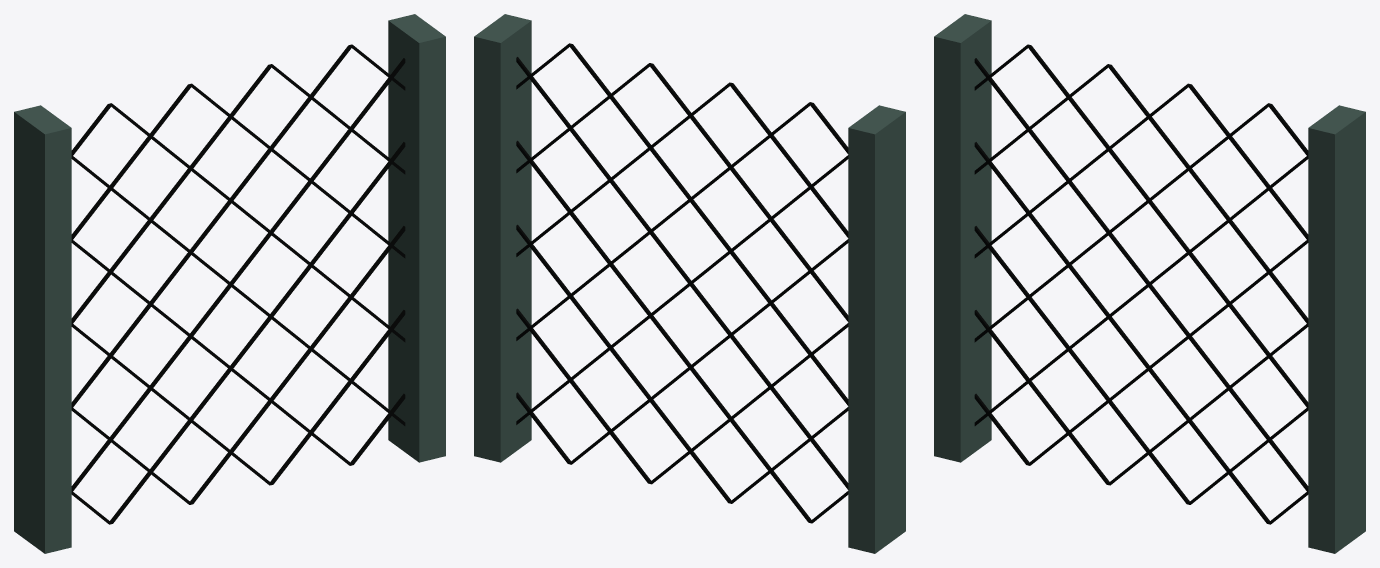
Rendered from Reja.FBX.
3 renders of one model, left to right at view 1: azimuth 30°, elevation 25°; view 2: azimuth 150°, elevation 25°; view 3: azimuth 330°, elevation 25°, orthographic.
Visible parts, largest first — view 1: Box008, Box009, Box014, Box039; view 2: Box008, Box009, Box014, Box039; view 3: Box009, Box008, Box039, Box014.
Part boxes in pixels (x1,y1,x2,y2): Box008: (14,105,71,553); Box009: (388,14,445,462); Box014: (71,44,405,523); Box039: (71,45,405,524); Box008: (848,105,905,553); Box009: (474,14,531,462); Box014: (516,44,848,523); Box039: (516,43,848,523); Box009: (1308,105,1365,553); Box008: (934,14,991,462); Box039: (974,44,1308,523); Box014: (974,44,1308,524).
Bounding box in the file's own units: 150 × 150 × 20.
